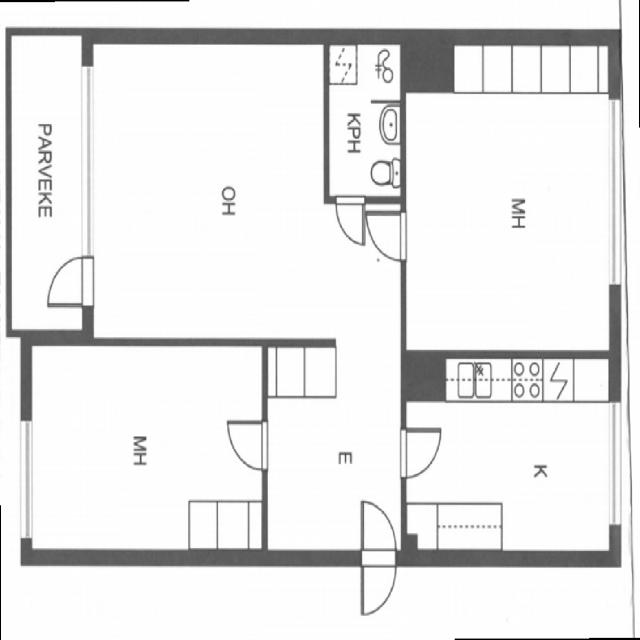door: (356, 494, 400, 617), (223, 416, 270, 472), (398, 425, 444, 482), (44, 253, 90, 310), (364, 207, 410, 263), (358, 556, 398, 619), (332, 194, 368, 248)
window: (75, 61, 102, 266), (604, 98, 629, 293), (18, 411, 37, 548), (606, 390, 622, 534)
zone: (88, 40, 332, 340), (403, 35, 619, 360), (28, 342, 264, 558), (404, 360, 618, 558), (266, 347, 404, 557), (326, 40, 403, 202), (406, 502, 506, 558)
